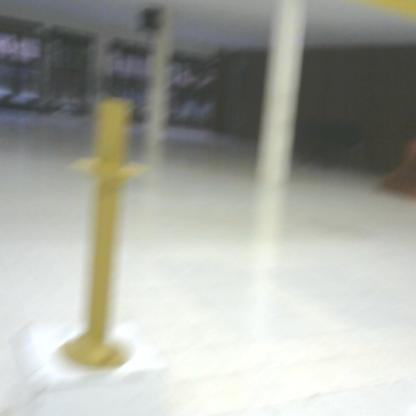pole: (59, 92, 155, 370)
